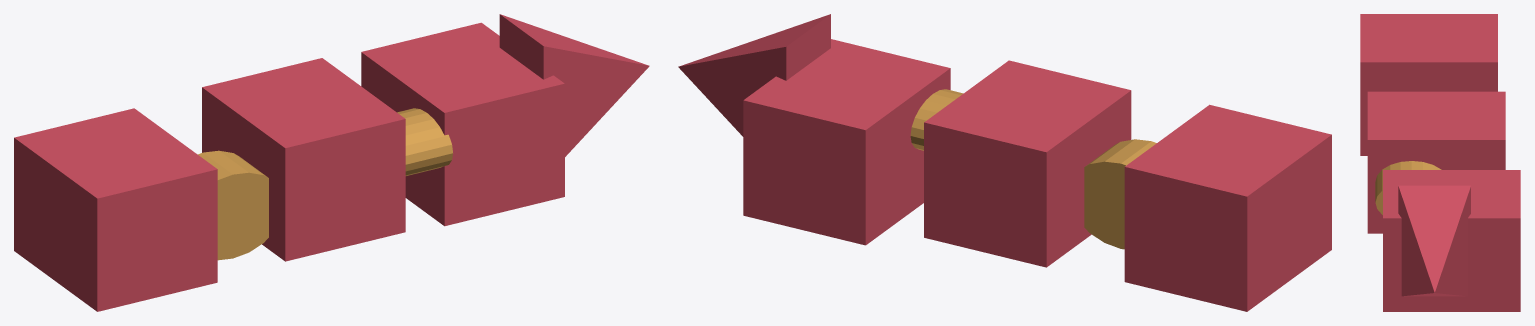
File: Train.glb
3 views of the same model, side by side, from view 1: azimuth 30°, elevation 25°; view 2: azimuth 150°, elevation 25°; view 3: azimuth 270°, elevation 25° (orthographic). The views are drawn at different scales.
Parts seen in each view (by area): view 1: Mesh_Mesh_head_geo.001_lambert2SG.001; view 2: Mesh_Mesh_head_geo.001_lambert2SG.001; view 3: Mesh_Mesh_head_geo.001_lambert2SG.001.
Boxes of the visible parts, x1,y1,x2,y2 form: Mesh_Mesh_head_geo.001_lambert2SG.001: (14, 14, 649, 311); Mesh_Mesh_head_geo.001_lambert2SG.001: (678, 14, 1331, 311); Mesh_Mesh_head_geo.001_lambert2SG.001: (1360, 14, 1520, 311).
Size of the model in its own units: 149 by 35 by 42.
